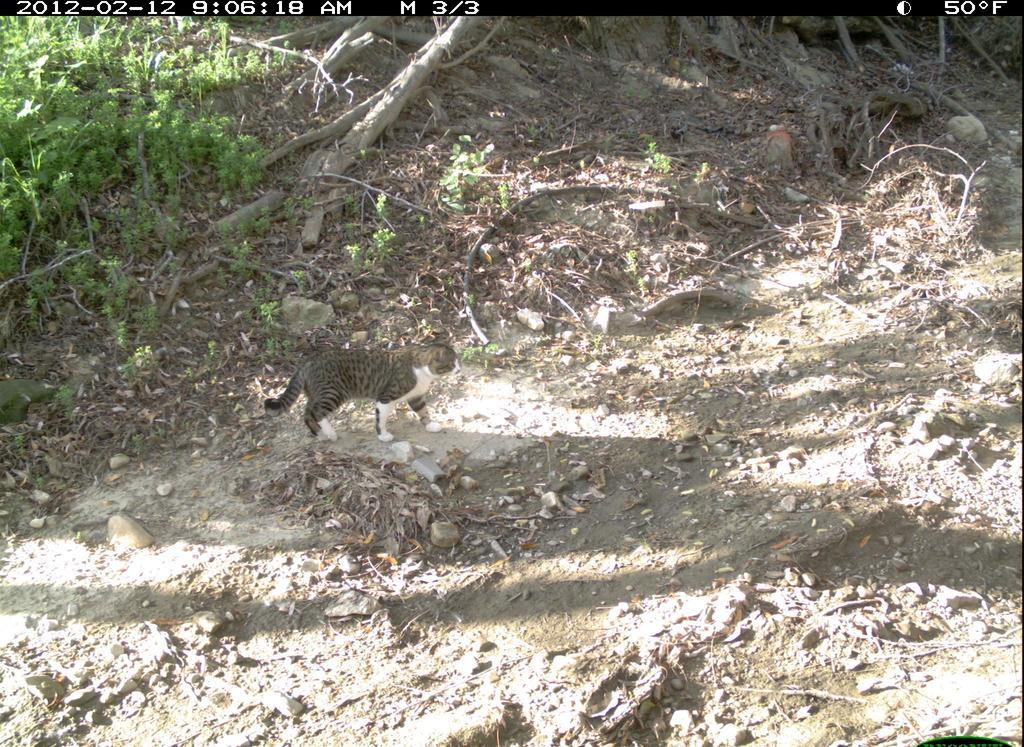cat: (273, 329, 472, 451)
